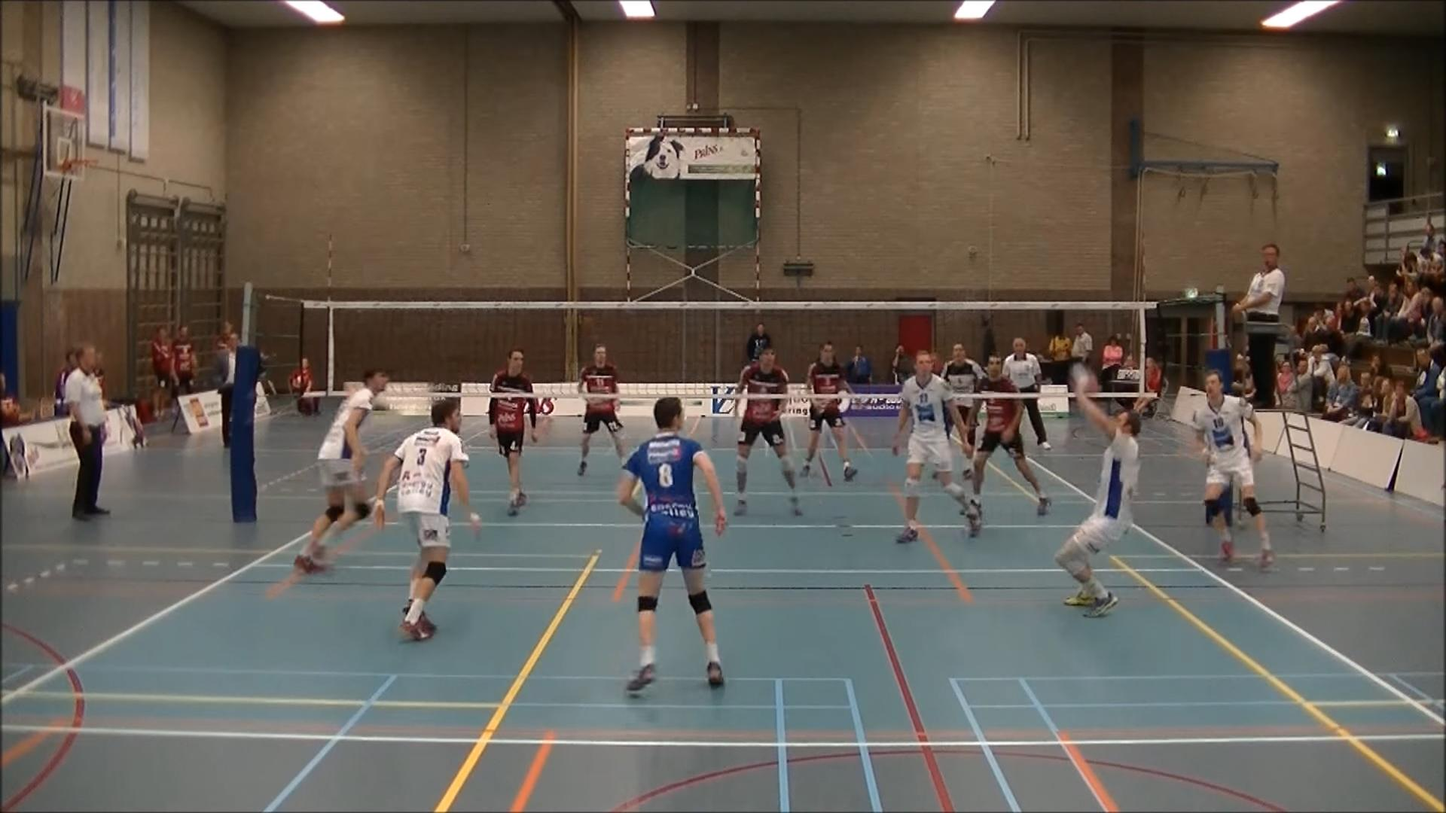alzata: (1055, 363, 1146, 618)
